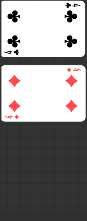4C: (4, 48, 21, 56)
4D: (4, 113, 21, 120)
